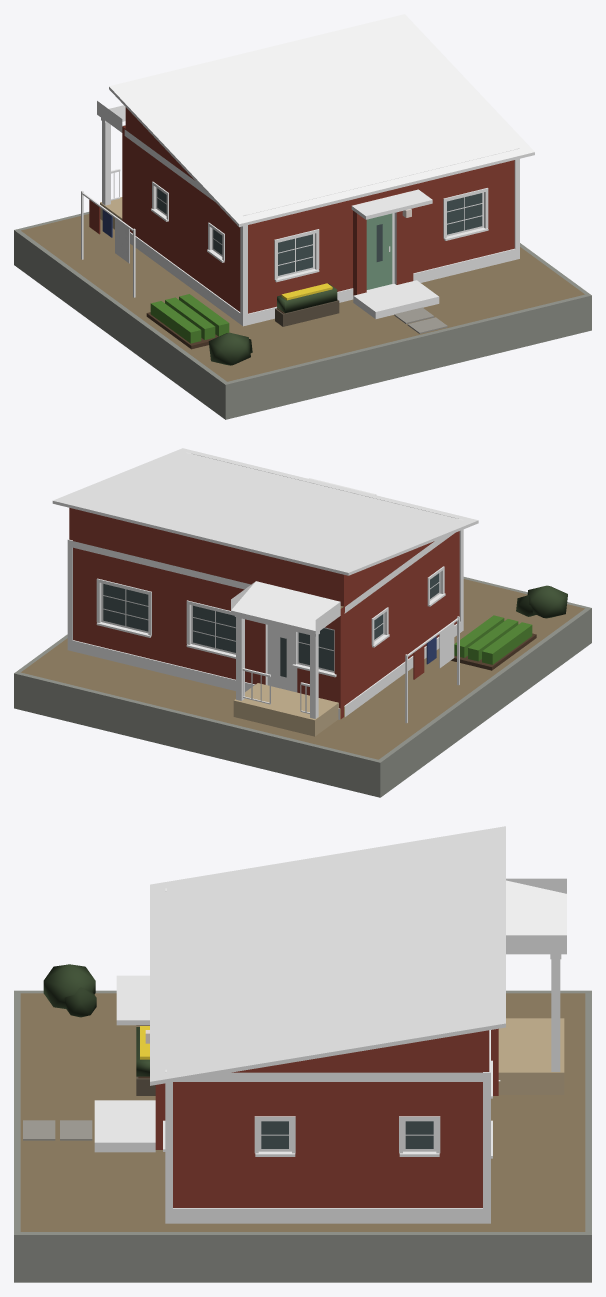
Rendered from site_hut4.fbx.
The picture shows the model from 3 angles, top to bottom: view 1: azimuth 30°, elevation 25°; view 2: azimuth 150°, elevation 25°; view 3: azimuth 270°, elevation 25°; orthographic projection. The views are drawn at different scales.
Visible parts, largest first — view 1: a2015.site_hut4; view 2: a2015.site_hut4; view 3: a2015.site_hut4.
Part boxes in pixels (x1,y1,x2,y2): a2015.site_hut4: (14, 14, 591, 419); a2015.site_hut4: (14, 448, 591, 797); a2015.site_hut4: (14, 826, 591, 1282).
Bounding box in the file's own units: 10.4 × 5.05 × 10.4.
